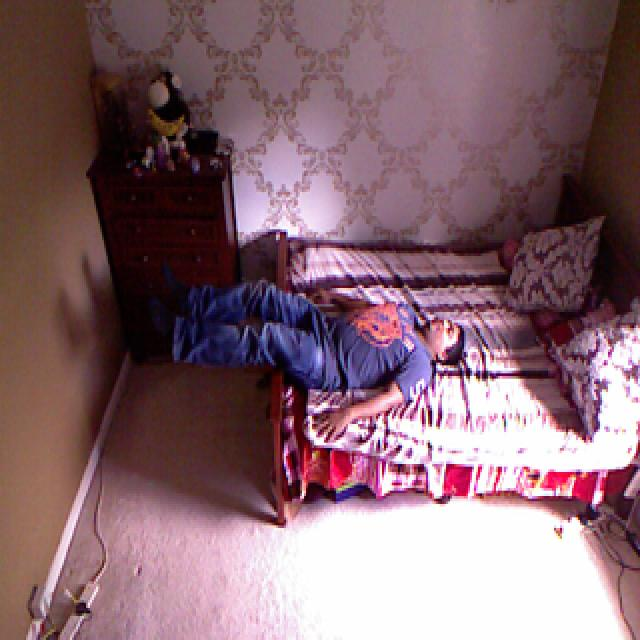lying: (142, 259, 466, 435)
